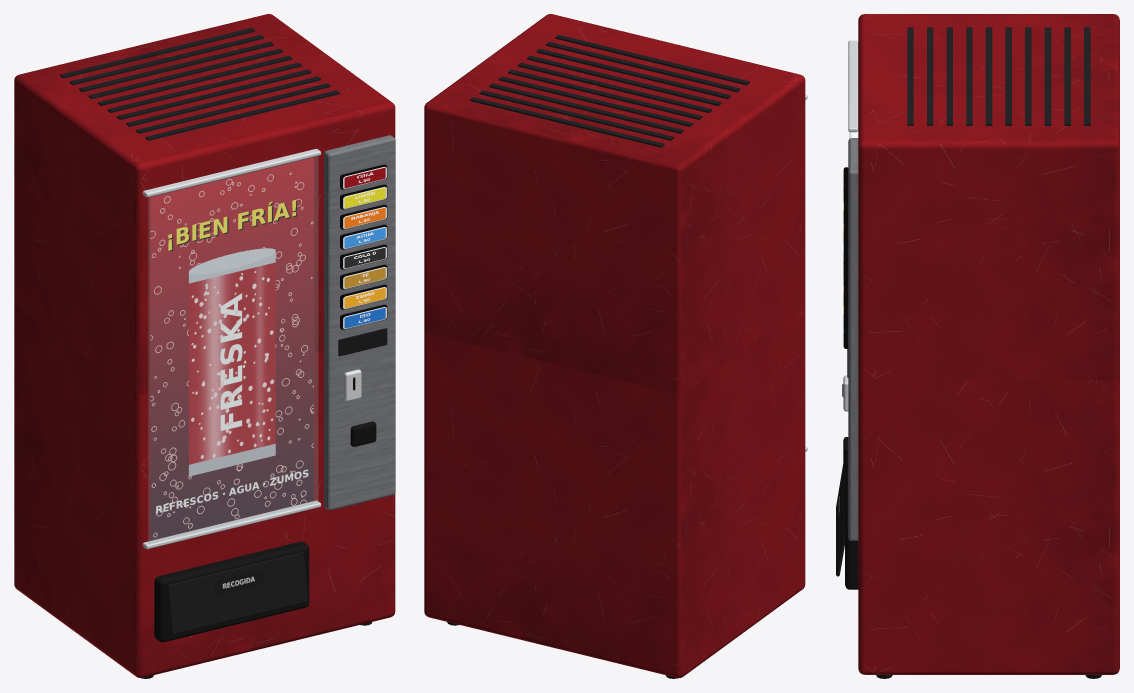
The model's file is maquina_bebidas.glb.
3 renders of one model, left to right at view 1: azimuth 30°, elevation 25°; view 2: azimuth 150°, elevation 25°; view 3: azimuth 270°, elevation 25°, orthographic. The views are drawn at different scales.
Visible parts, largest first — view 1: maquina_bebidas; view 2: maquina_bebidas; view 3: maquina_bebidas.
Part boxes in pixels (<box>): maquina_bebidas: <box>14,14,395,678</box>; maquina_bebidas: <box>424,14,807,678</box>; maquina_bebidas: <box>836,14,1119,678</box>.
Bounding box in the file's own units: 0.95 × 1.84 × 0.8677.
Materials: 11 (6 with a texture image).
